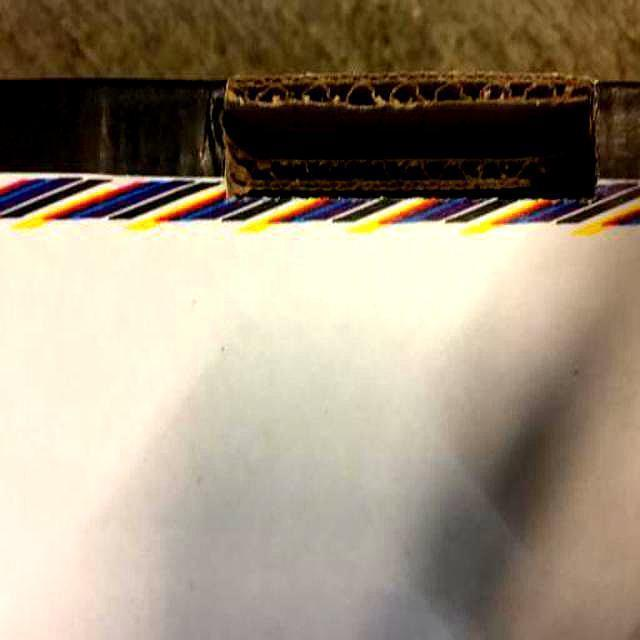Biodegradable: (1, 173, 640, 640), (219, 68, 604, 205)
